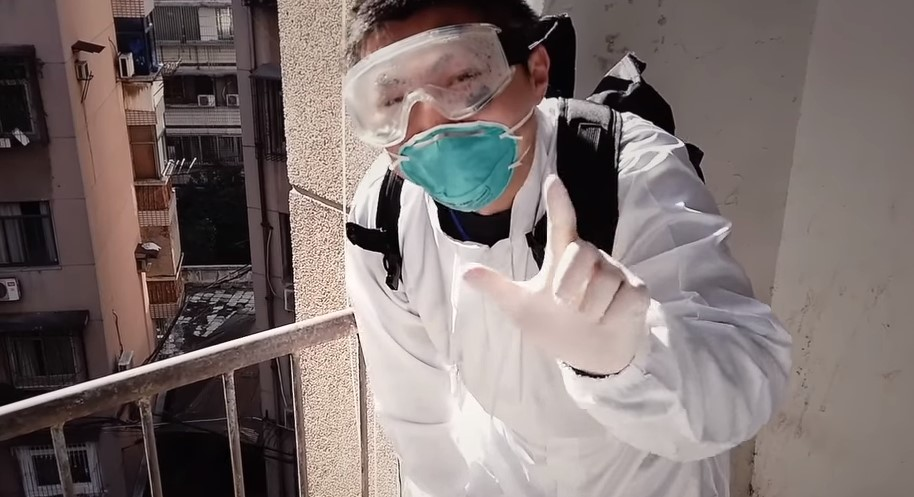face_with_mask: (341, 6, 553, 220)
